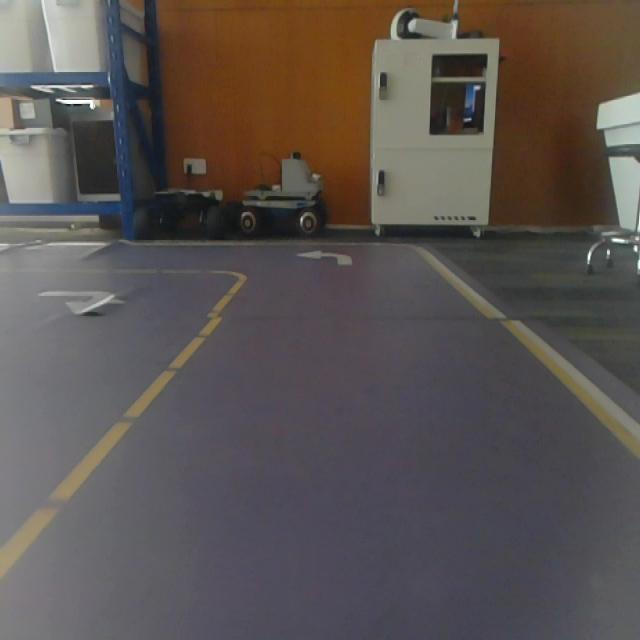left_lane: (0, 279, 247, 578)
right_lane: (420, 255, 636, 460)
